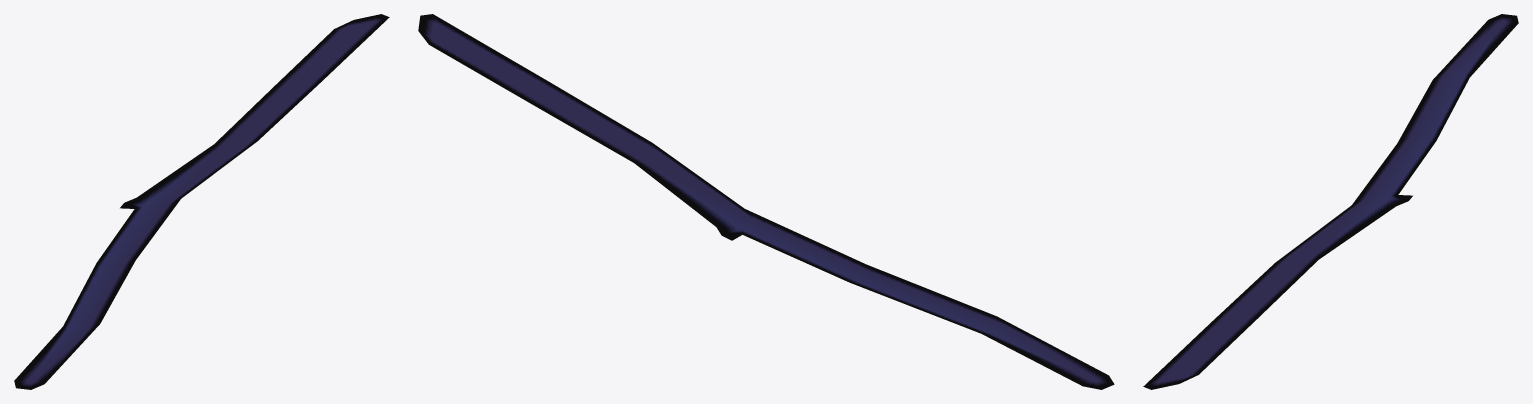
3 views of the same model, side by side, from view 1: azimuth 90°, elevation 25°; view 2: azimuth 150°, elevation 25°; view 3: azimuth 270°, elevation 25° (orthographic). The views are drawn at different scales.
Parts seen in each view (by area): view 1: Joint_0_Object_0; view 2: Joint_0_Object_0; view 3: Joint_0_Object_0.
Boxes of the visible parts, <box> form: Joint_0_Object_0: <box>14,14,389,389</box>; Joint_0_Object_0: <box>418,14,1114,389</box>; Joint_0_Object_0: <box>1143,14,1518,389</box>.
Bounding box in the file's own units: 1214 × 0 × 512.
Materials: 1 (1 with a texture image).
